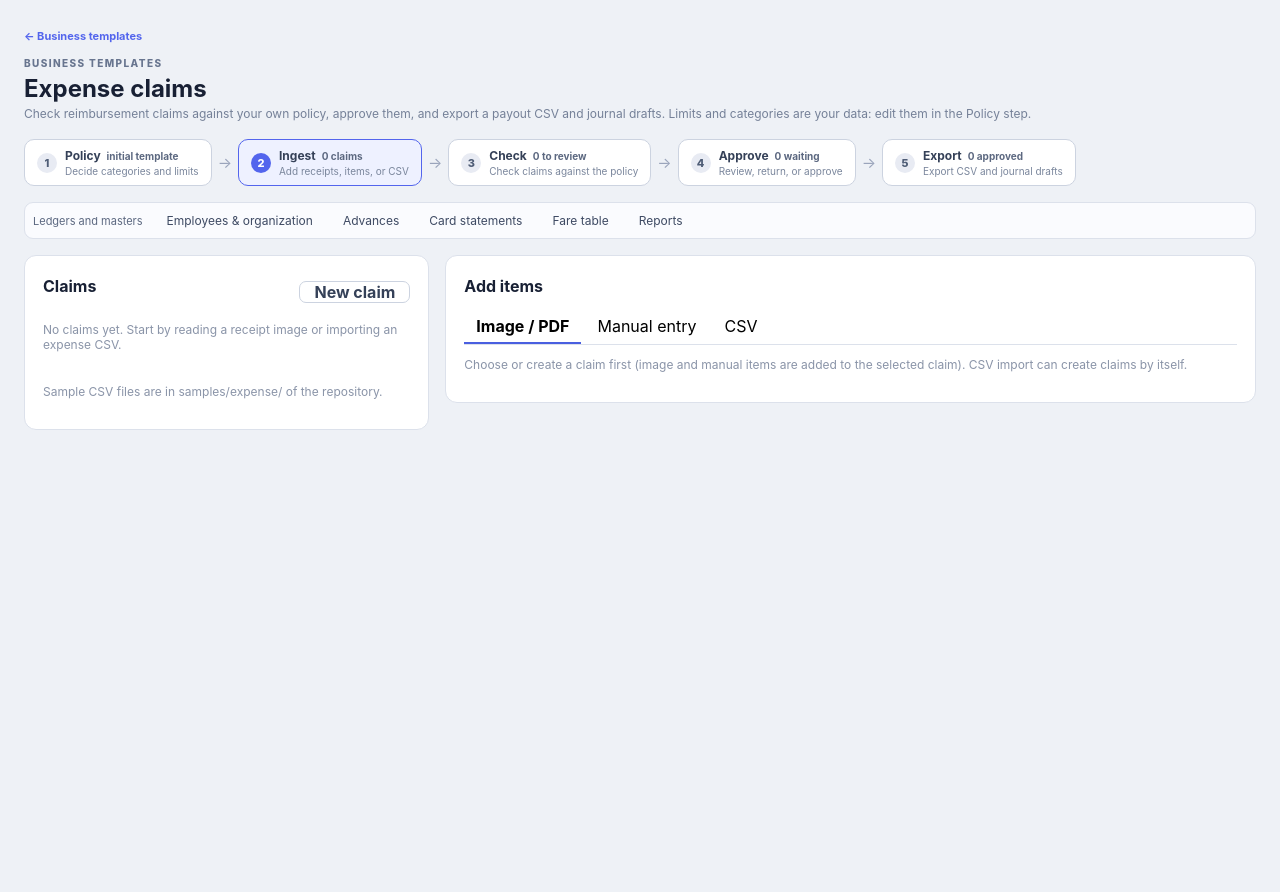
Test: ExpensePage › 異常: 系統の API の一部が読めなくても画面を赤くせず、読めた分だけ出す（B が読めなければ振込元は A の値）
Click the tab "Policy" at (118, 162), box x1=24 y1=139 x2=212 y2=186
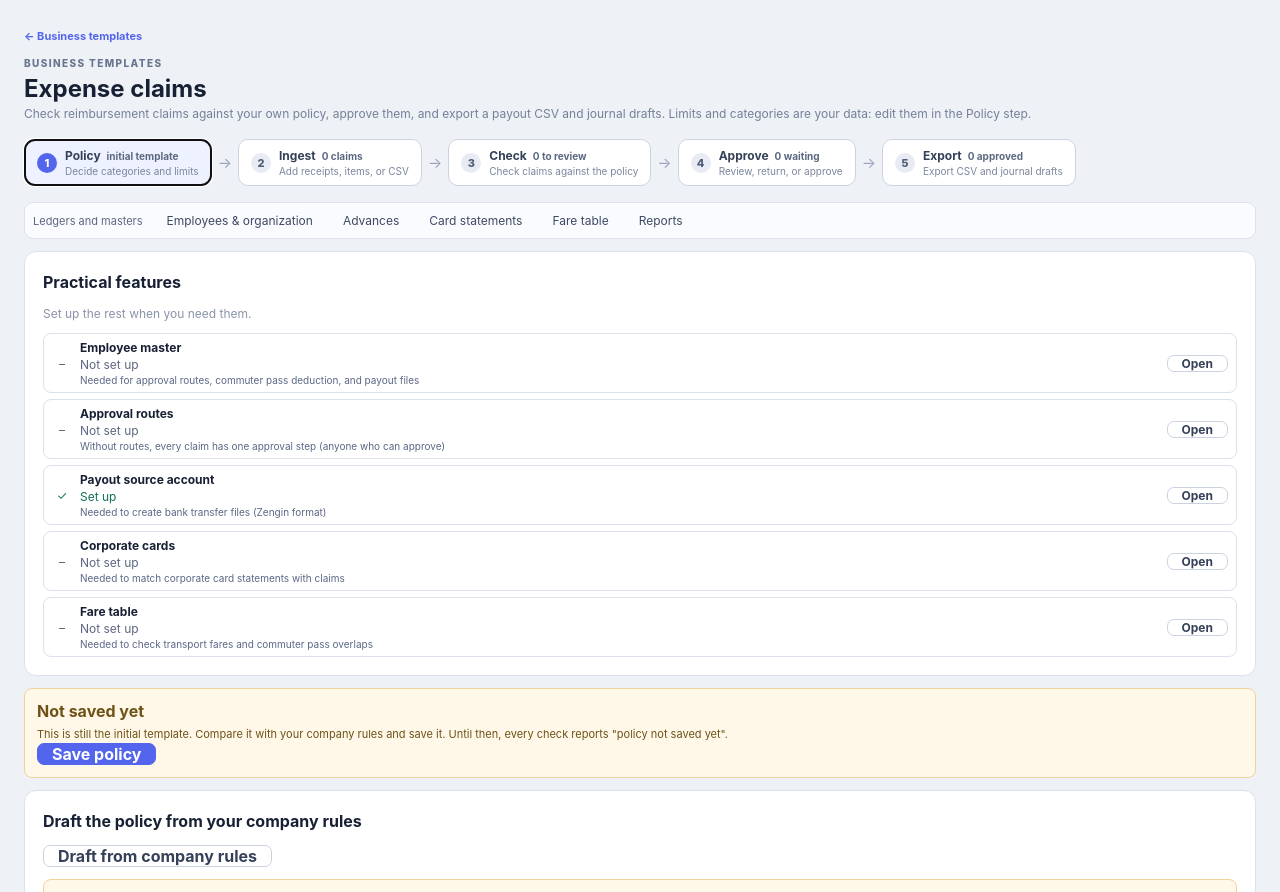
Expected: the text "Set up" is shown once, x1=80 y1=489 x2=116 y2=504
Expected: the text "Not set up" is shown 4 times, x1=80 y1=357 x2=139 y2=372; x1=80 y1=423 x2=139 y2=438; x1=80 y1=555 x2=139 y2=570; x1=80 y1=621 x2=139 y2=636
